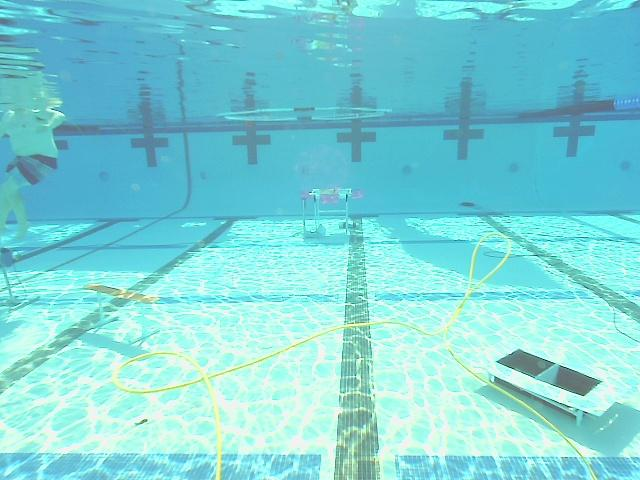dropper: (485, 345, 621, 420)
table: (301, 187, 363, 237)
